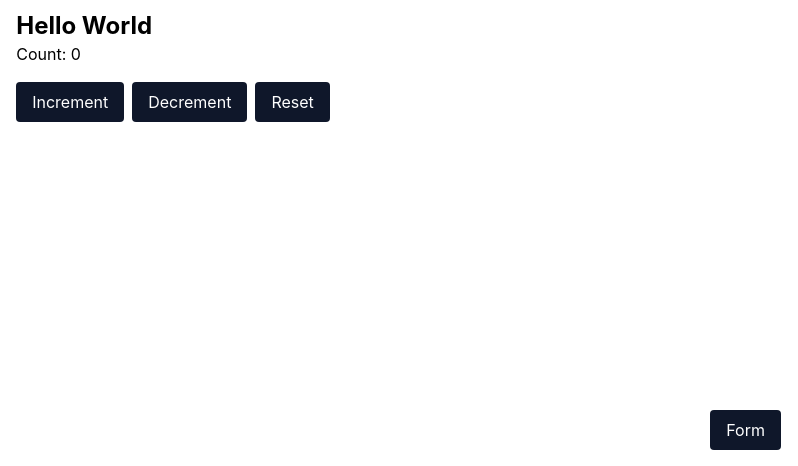
it: Counter Component › Decrement count flow
expect the heading "Count: 0" is shown: met, box [16,44,81,64]
Click the button with test id "decrement-button". click: click(190, 102)
box: [132,82,247,122]
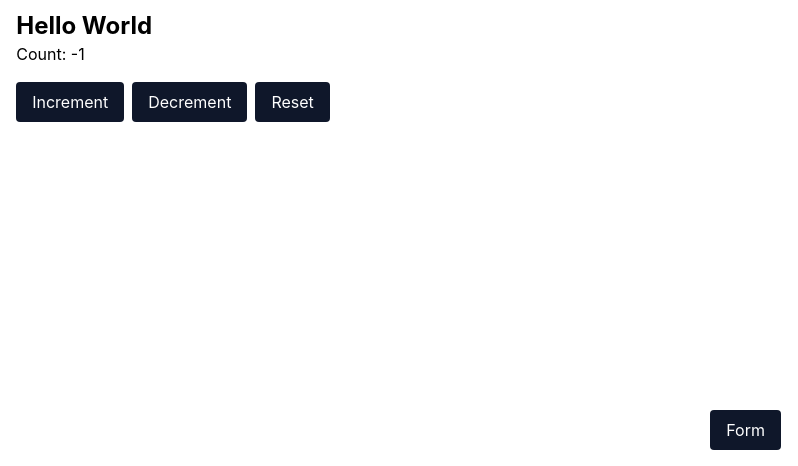
expect the heading "Count: -1" is shown: met, box [16,44,85,64]
